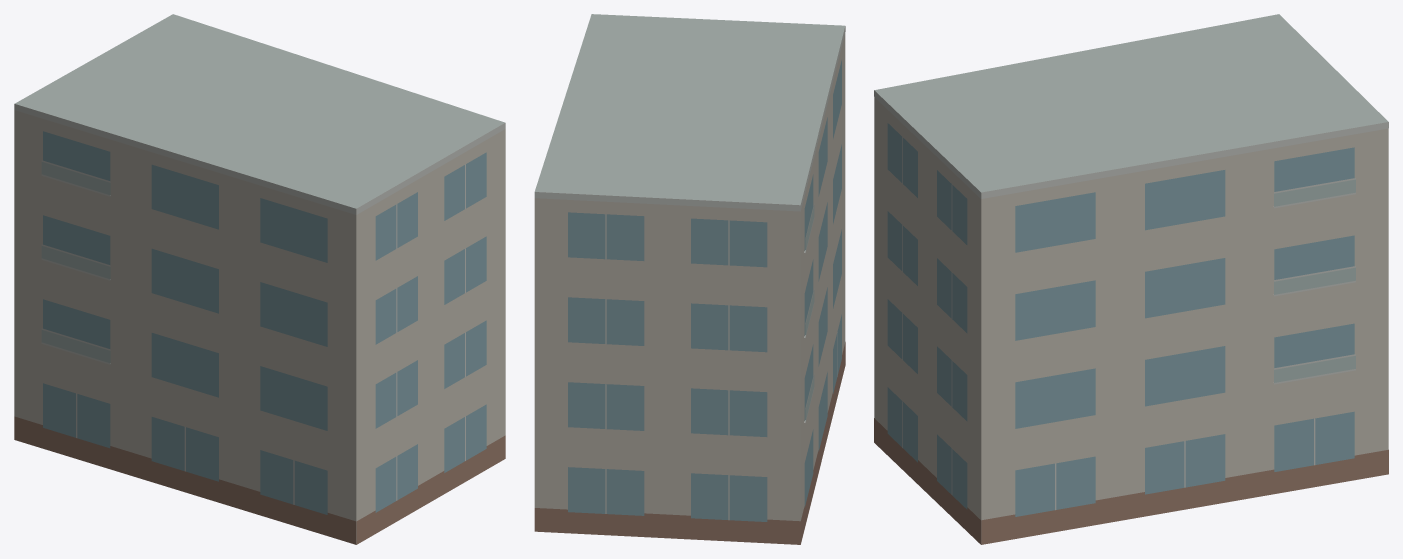
The model's file is survey-upis-32750464.glb.
3 views of the same model, side by side, from view 1: azimuth 30°, elevation 25°; view 2: azimuth 150°, elevation 25°; view 3: azimuth 270°, elevation 25° (orthographic). The views are drawn at different scales.
Visible parts, largest first — view 1: survey-upis-32750464.tmp; view 2: survey-upis-32750464.tmp; view 3: survey-upis-32750464.tmp.
Boxes of the visible parts, bbox=[...] form: survey-upis-32750464.tmp: bbox=[14, 14, 505, 544]; survey-upis-32750464.tmp: bbox=[534, 14, 845, 544]; survey-upis-32750464.tmp: bbox=[874, 14, 1388, 544].
Bounding box in the file's own units: 14.26 × 13.12 × 17.38.
